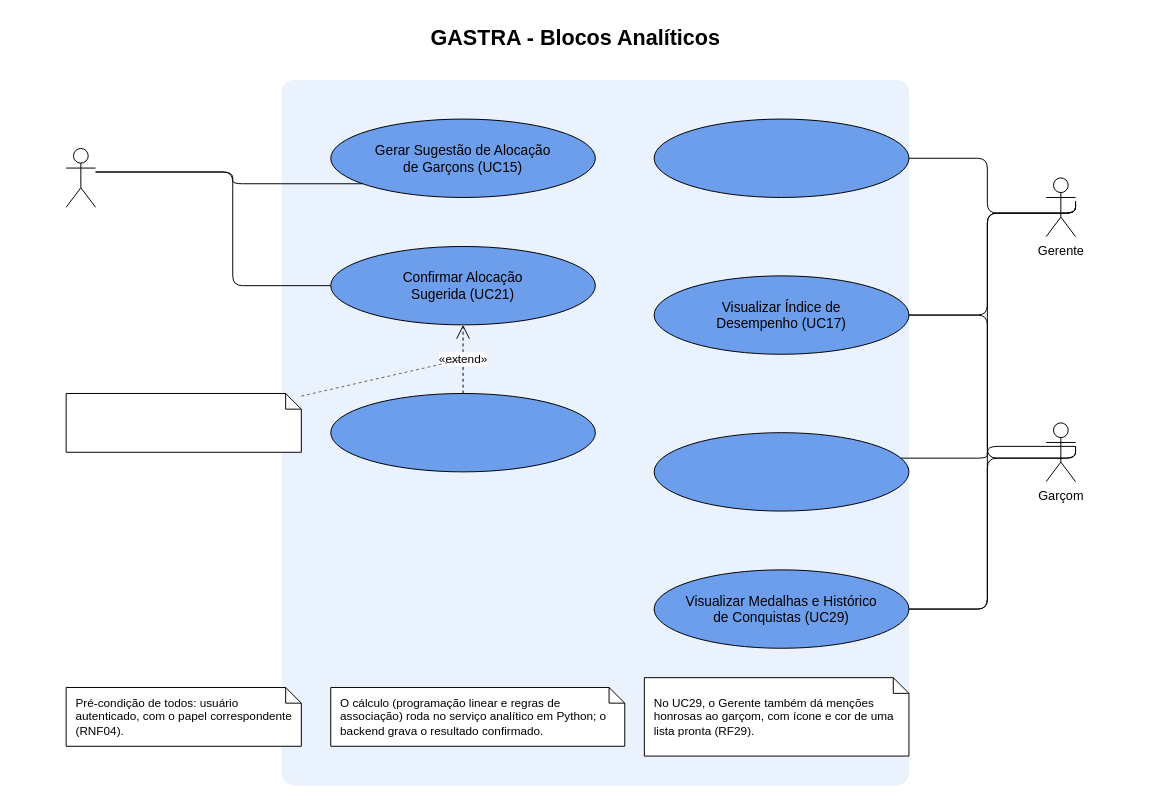
Image size: 1151x802. Some labels were removed from this diagram. The shapes that lost their labels are listed below. From the top down, each one's centre as x and y in pixels, then its label:
At [80,177]: "Metre".
At [781,157]: "Visualizar Relatórios de BI (UC16)".
At [183,422]: "Condição: o metre altera a praça sugerida antes de confirmar (RF07)".
At [462,432]: "Ajustar Alocação Sugerida (UC22)".
At [781,471]: "Visualizar Sugestão de Combinação de Pratos (UC18)".
